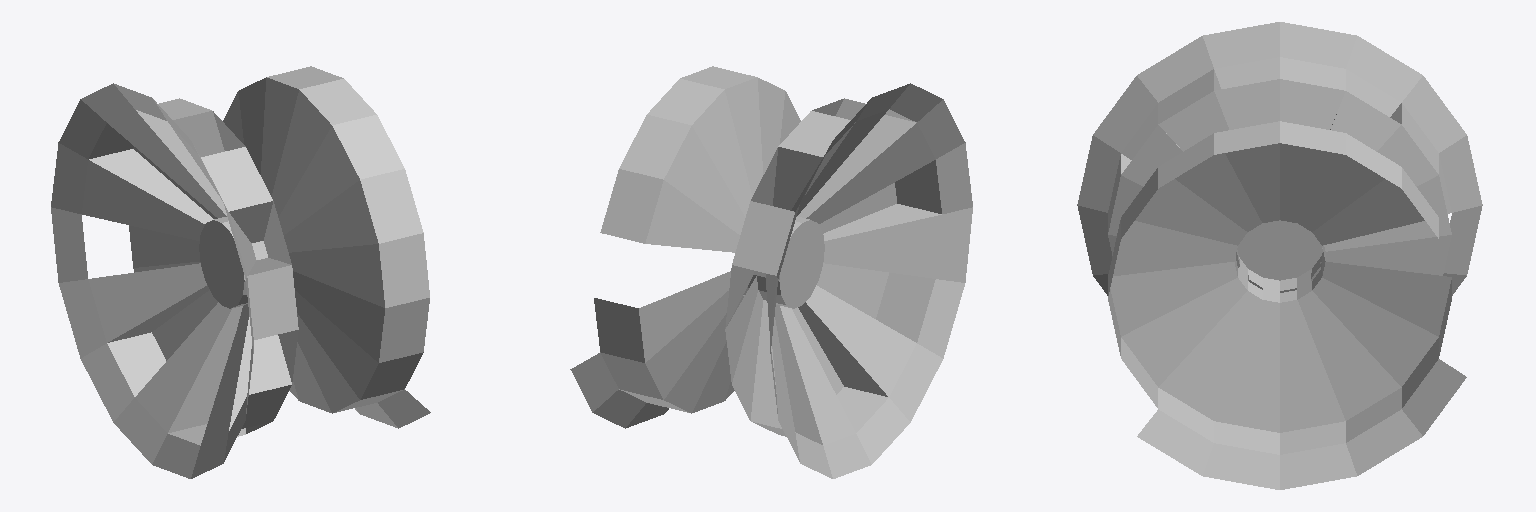
The model's file is leftTireFrame.obj.
The picture shows the model from 3 angles: view 1: azimuth 30°, elevation 25°; view 2: azimuth 150°, elevation 25°; view 3: azimuth 270°, elevation 25°; orthographic projection.
Visible parts, largest first — view 1: leftTireFrame_Cube.006; view 2: leftTireFrame_Cube.006; view 3: leftTireFrame_Cube.006.
Boxes of the visible parts, x1=… form: leftTireFrame_Cube.006: x1=51, y1=66, x2=430, y2=478; leftTireFrame_Cube.006: x1=570, y1=66, x2=972, y2=478; leftTireFrame_Cube.006: x1=1077, y1=22, x2=1482, y2=489.
Bounding box in the file's own units: 0.3232 × 0.546 × 0.546.